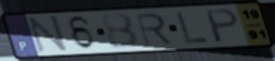6: (67, 15, 97, 51)
B: (99, 12, 142, 50)
L: (175, 11, 212, 45)
N: (27, 14, 70, 54)
P: (204, 7, 241, 45)
R: (133, 11, 175, 48)
